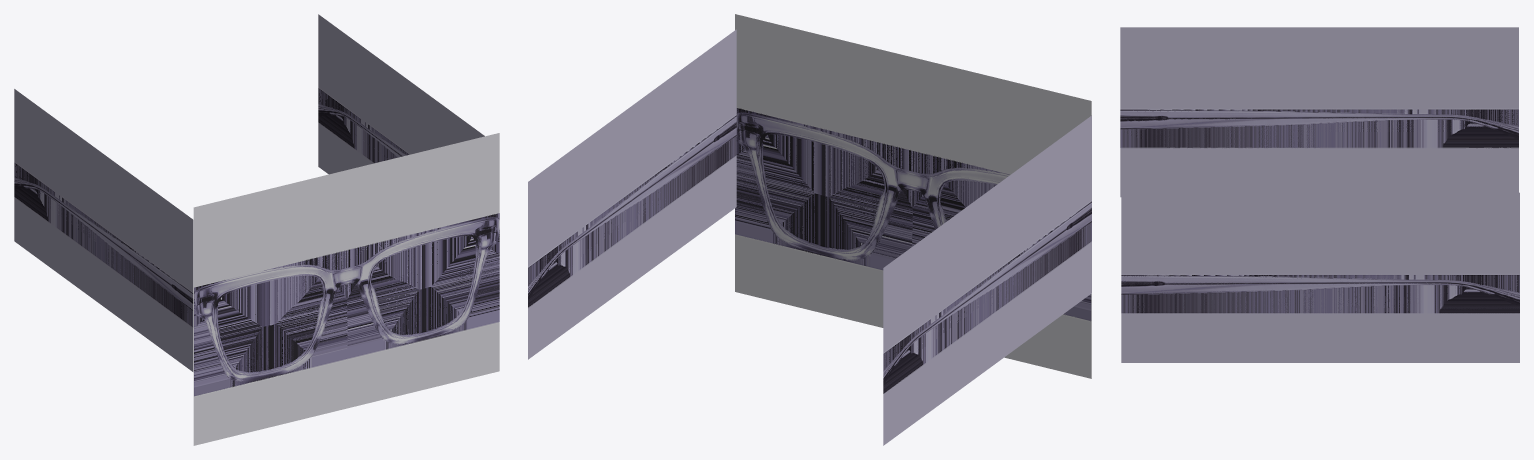
Rendered from broadway-flex-33_f5.glb.
3 renders of one model, left to right at view 1: azimuth 30°, elevation 25°; view 2: azimuth 150°, elevation 25°; view 3: azimuth 270°, elevation 25°, orthographic. The views are drawn at different scales.
Visible parts, largest first — view 1: Front, Right, Left; view 2: Front, Left, Right; view 3: Left, Right.
Boxes of the visible parts, x1,y1,x2,y2 form: Front: (193, 133, 499, 445); Right: (14, 89, 193, 371); Left: (318, 14, 484, 174); Front: (735, 14, 1091, 378); Left: (528, 29, 736, 359); Right: (883, 115, 1091, 445); Left: (1121, 192, 1519, 362); Right: (1120, 27, 1518, 197).
Size of the model in its own units: 147 by 109 by 149.
4 materials, 4 textured.
